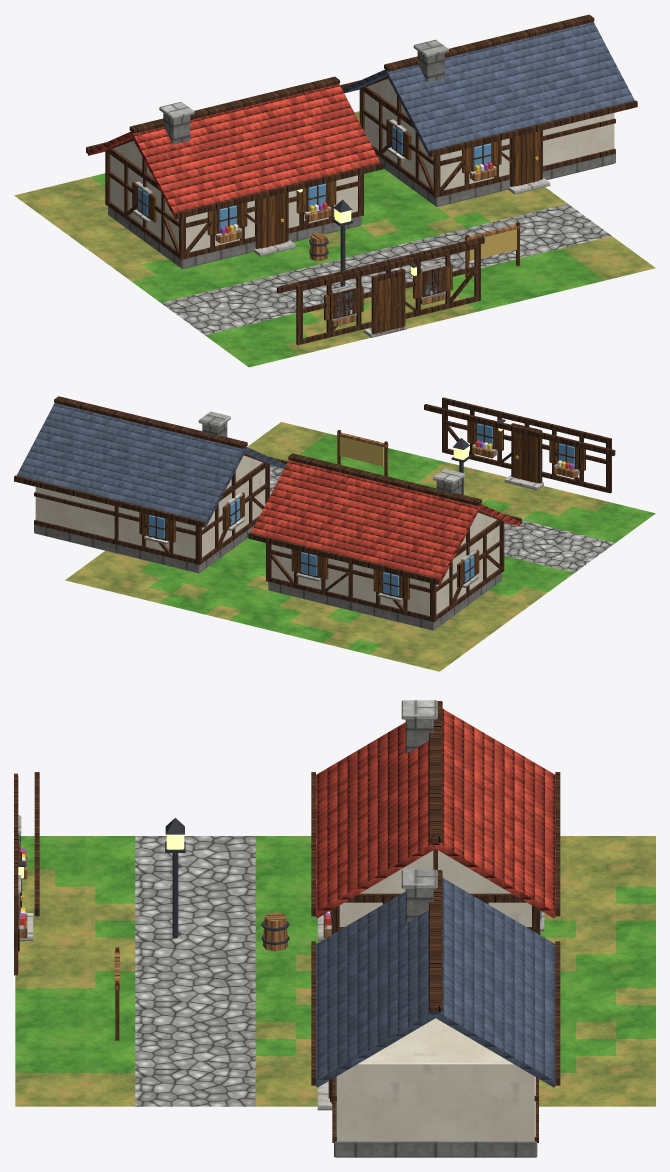
File: chunk_9_5.glb
3 views of the same model, one above another, from view 1: azimuth 30°, elevation 25°; view 2: azimuth 150°, elevation 25°; view 3: azimuth 270°, elevation 25° (orthographic). The views are drawn at different scales.
Visible parts, largest first — view 1: chunk_9_5; view 2: chunk_9_5; view 3: chunk_9_5.
Boxes of the visible parts, box(x1,y1,x2,y2) form: chunk_9_5: box(14, 14, 655, 367); chunk_9_5: box(14, 396, 655, 671); chunk_9_5: box(14, 700, 655, 1157).
Bounding box in the file's own units: 19.55 × 4.94 × 16.03.
21 materials, 12 textured.
